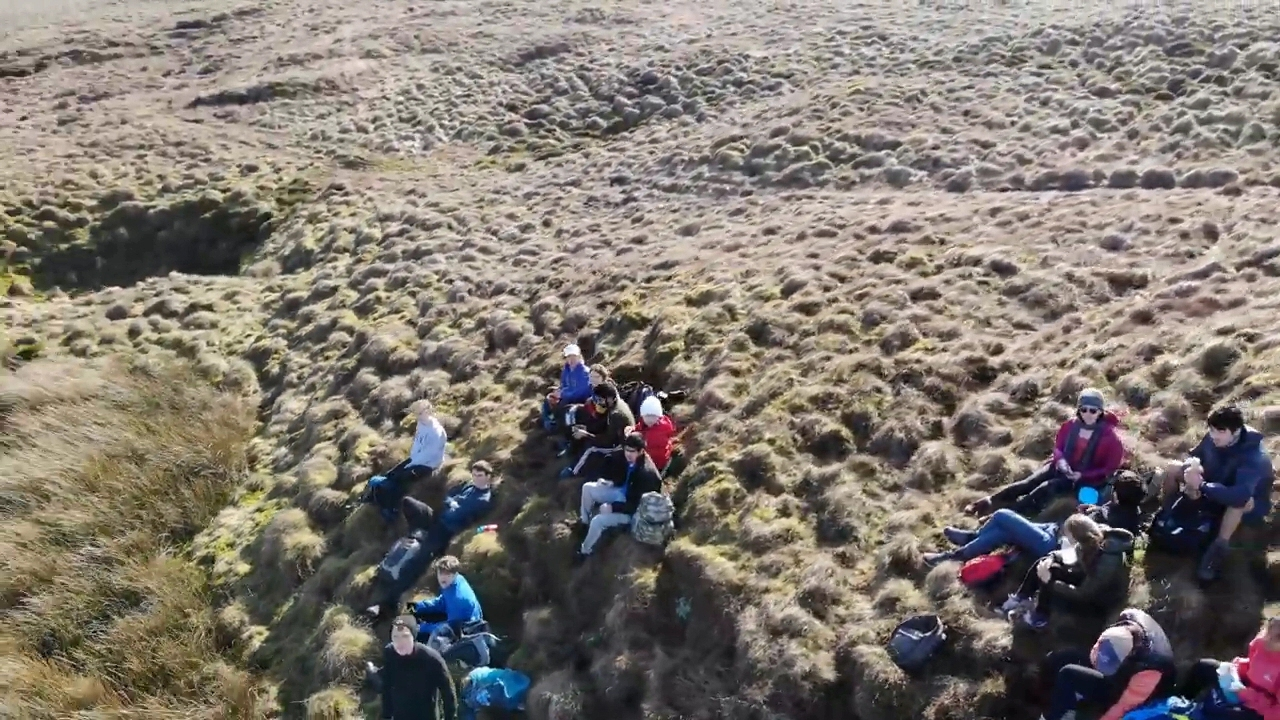insan: (963, 379, 1126, 517), (383, 439, 492, 622), (1156, 401, 1255, 581), (573, 430, 675, 562), (368, 399, 446, 506), (378, 617, 453, 720), (564, 381, 638, 479), (536, 340, 596, 432)
